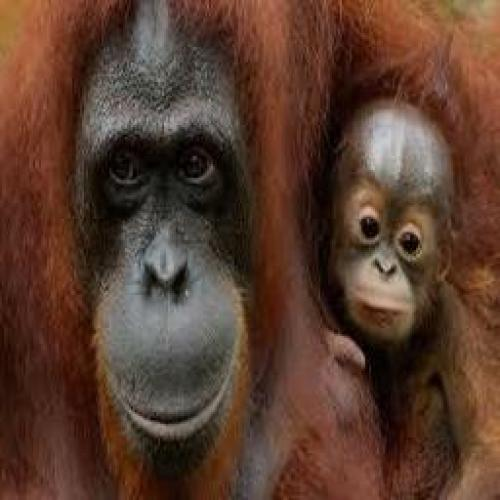orangutan-endangered: (21, 0, 298, 500), (301, 33, 500, 500)
